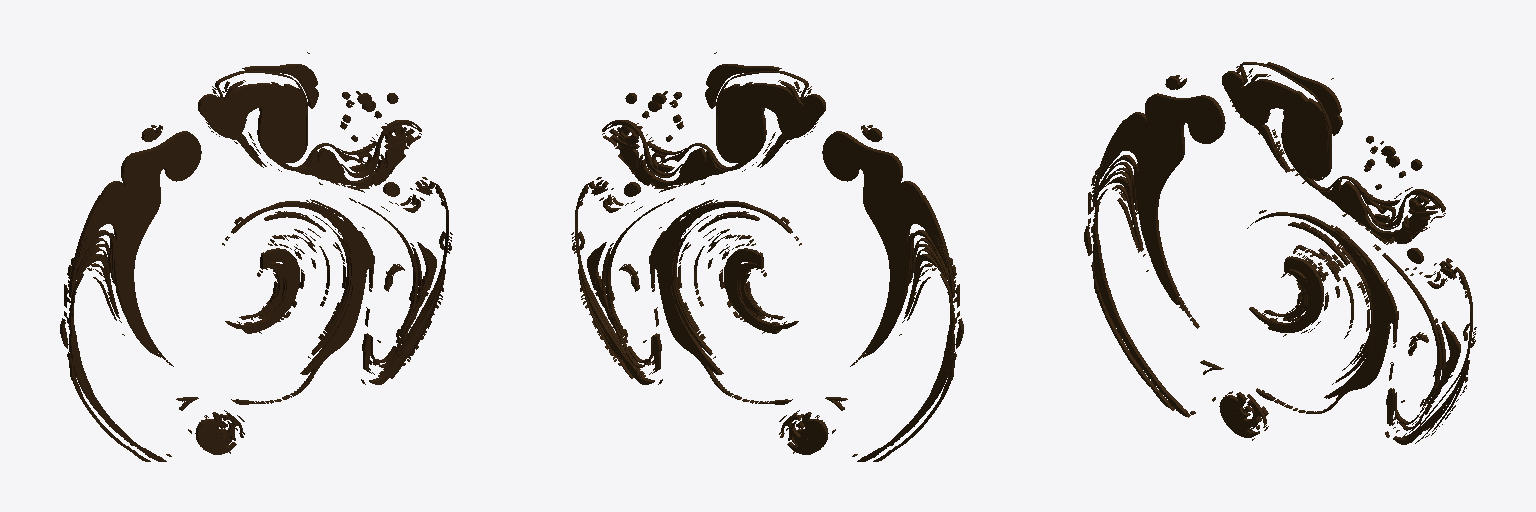
Rendered from tinker.obj.
3 views of the same model, side by side, from view 1: azimuth 30°, elevation 25°; view 2: azimuth 150°, elevation 25°; view 3: azimuth 330°, elevation 25° (orthographic).
Parts seen in each view (by area): view 1: obj_0; view 2: obj_0; view 3: obj_0.
Part boxes in pixels (left/top/right/bottom): obj_0: left=60, top=52, right=452, bottom=461; obj_0: left=571, top=52, right=963, bottom=461; obj_0: left=1084, top=62, right=1476, bottom=444.
Bounding box in the file's own units: 858 × 799 × 10.